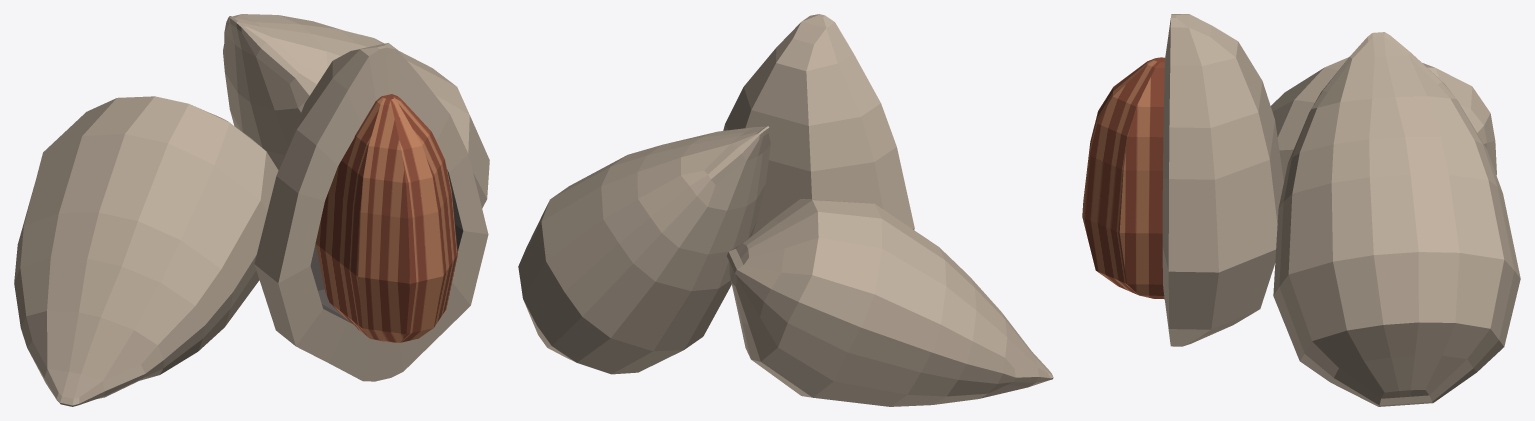
The model's file is shelledAlmond.fbx.
3 renders of one model, left to right at view 1: azimuth 30°, elevation 25°; view 2: azimuth 150°, elevation 25°; view 3: azimuth 270°, elevation 25°, orthographic. The views are drawn at different scales.
Parts seen in each view (by area): view 1: shelledAlmonds; view 2: shelledAlmonds; view 3: shelledAlmonds.
Boxes of the visible parts, x1,y1,x2,y2 form: shelledAlmonds: (14, 14, 489, 406); shelledAlmonds: (518, 14, 1053, 406); shelledAlmonds: (1082, 14, 1520, 406).
Size of the model in its own units: 4.5 by 2.89 by 3.54.
3 materials, 1 textured.
